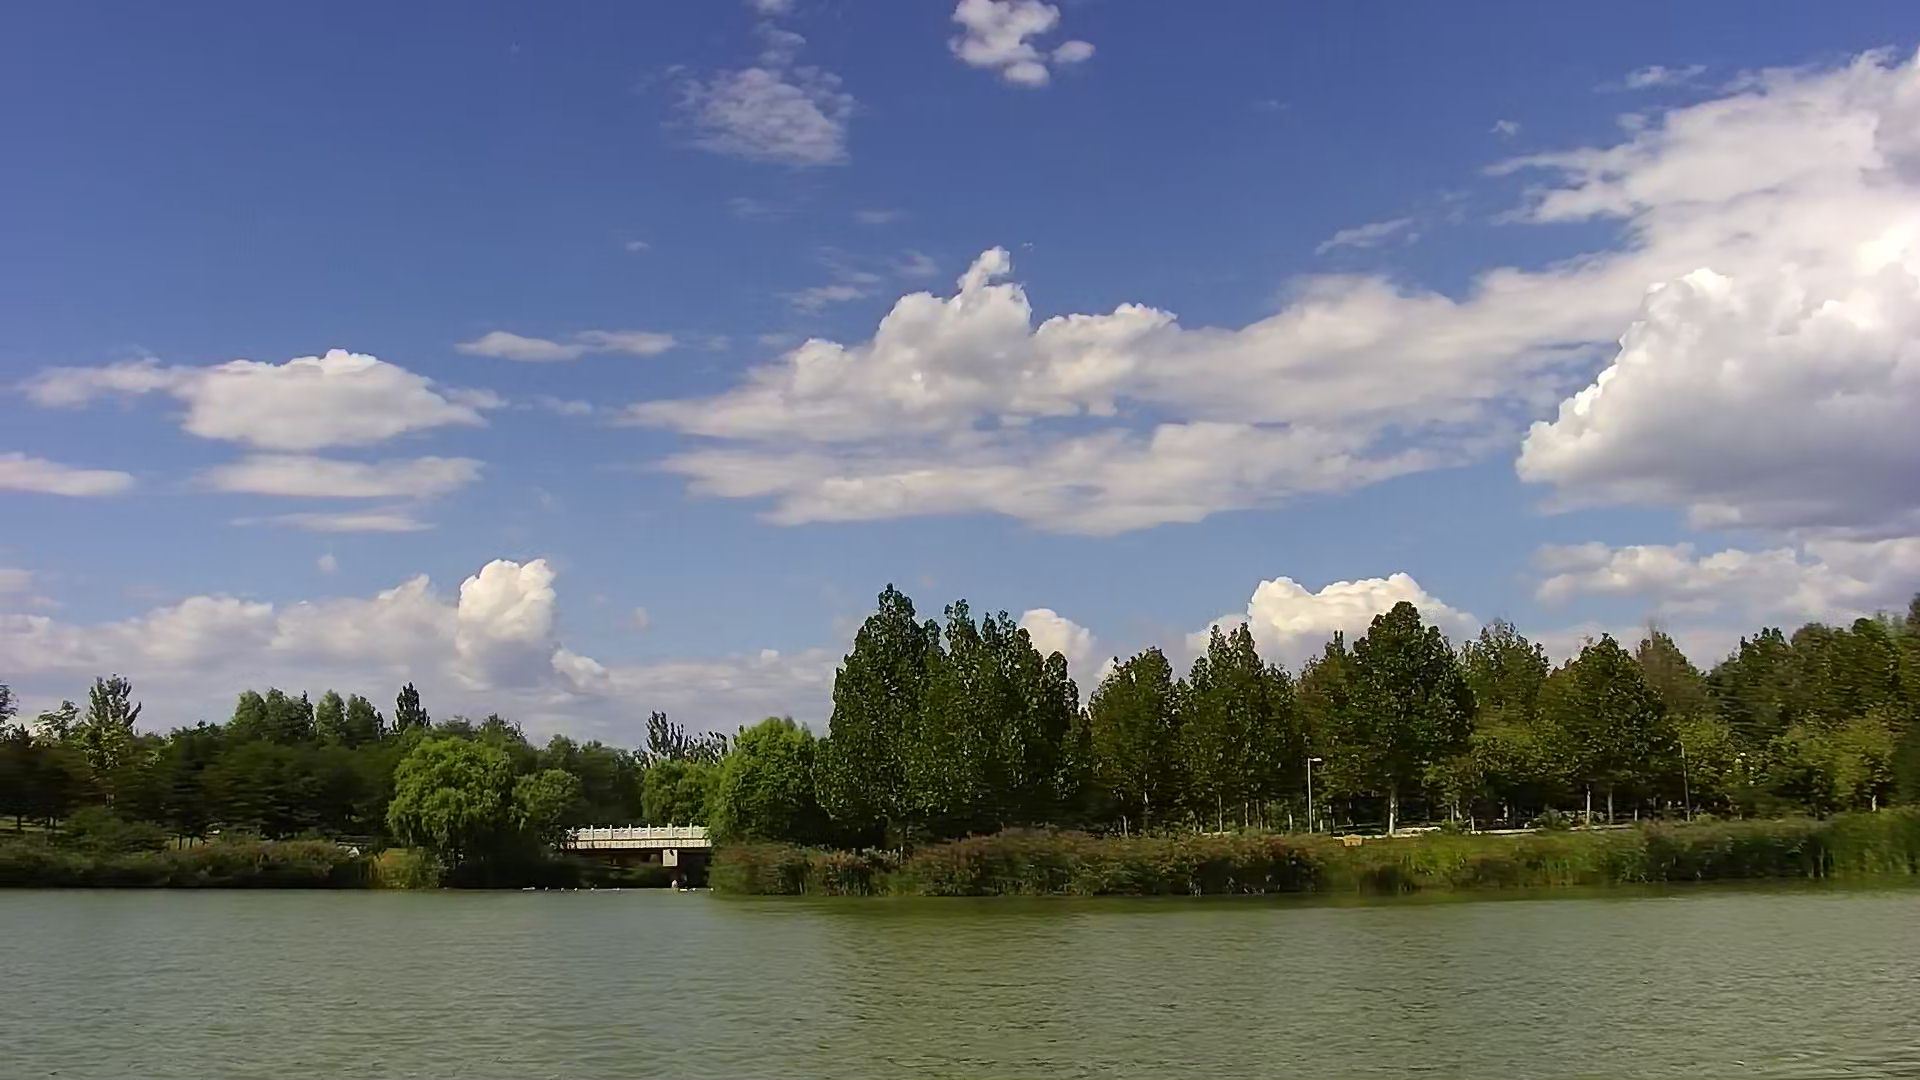bridge: (574, 818, 709, 895)
